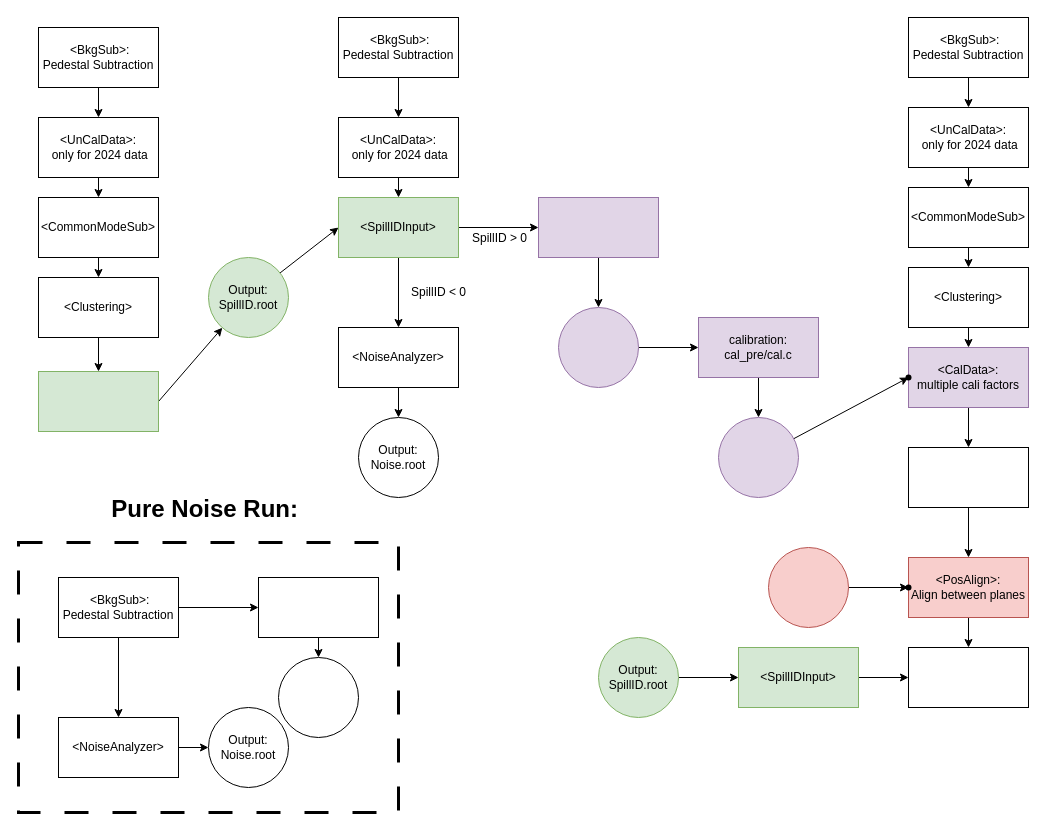
This 1046x831 diagram has some shape labels left out. Here are the shapes that lost their labels. From the top down, the centre of each, then its label:
point 598,227: <Sum1D>
point 598,347: Output: SumID.root
point 98,401: <SpillIDAssigner>
point 758,457: Output: cal.root
point 968,477: <Algo("grarms")>: calculate pos/sigma
point 318,607: <CorrMap>: NoiseCorrelation
point 808,587: Pos1D.root
point 318,697: Output: CorrMap.root
point 968,677: Resolution Study
